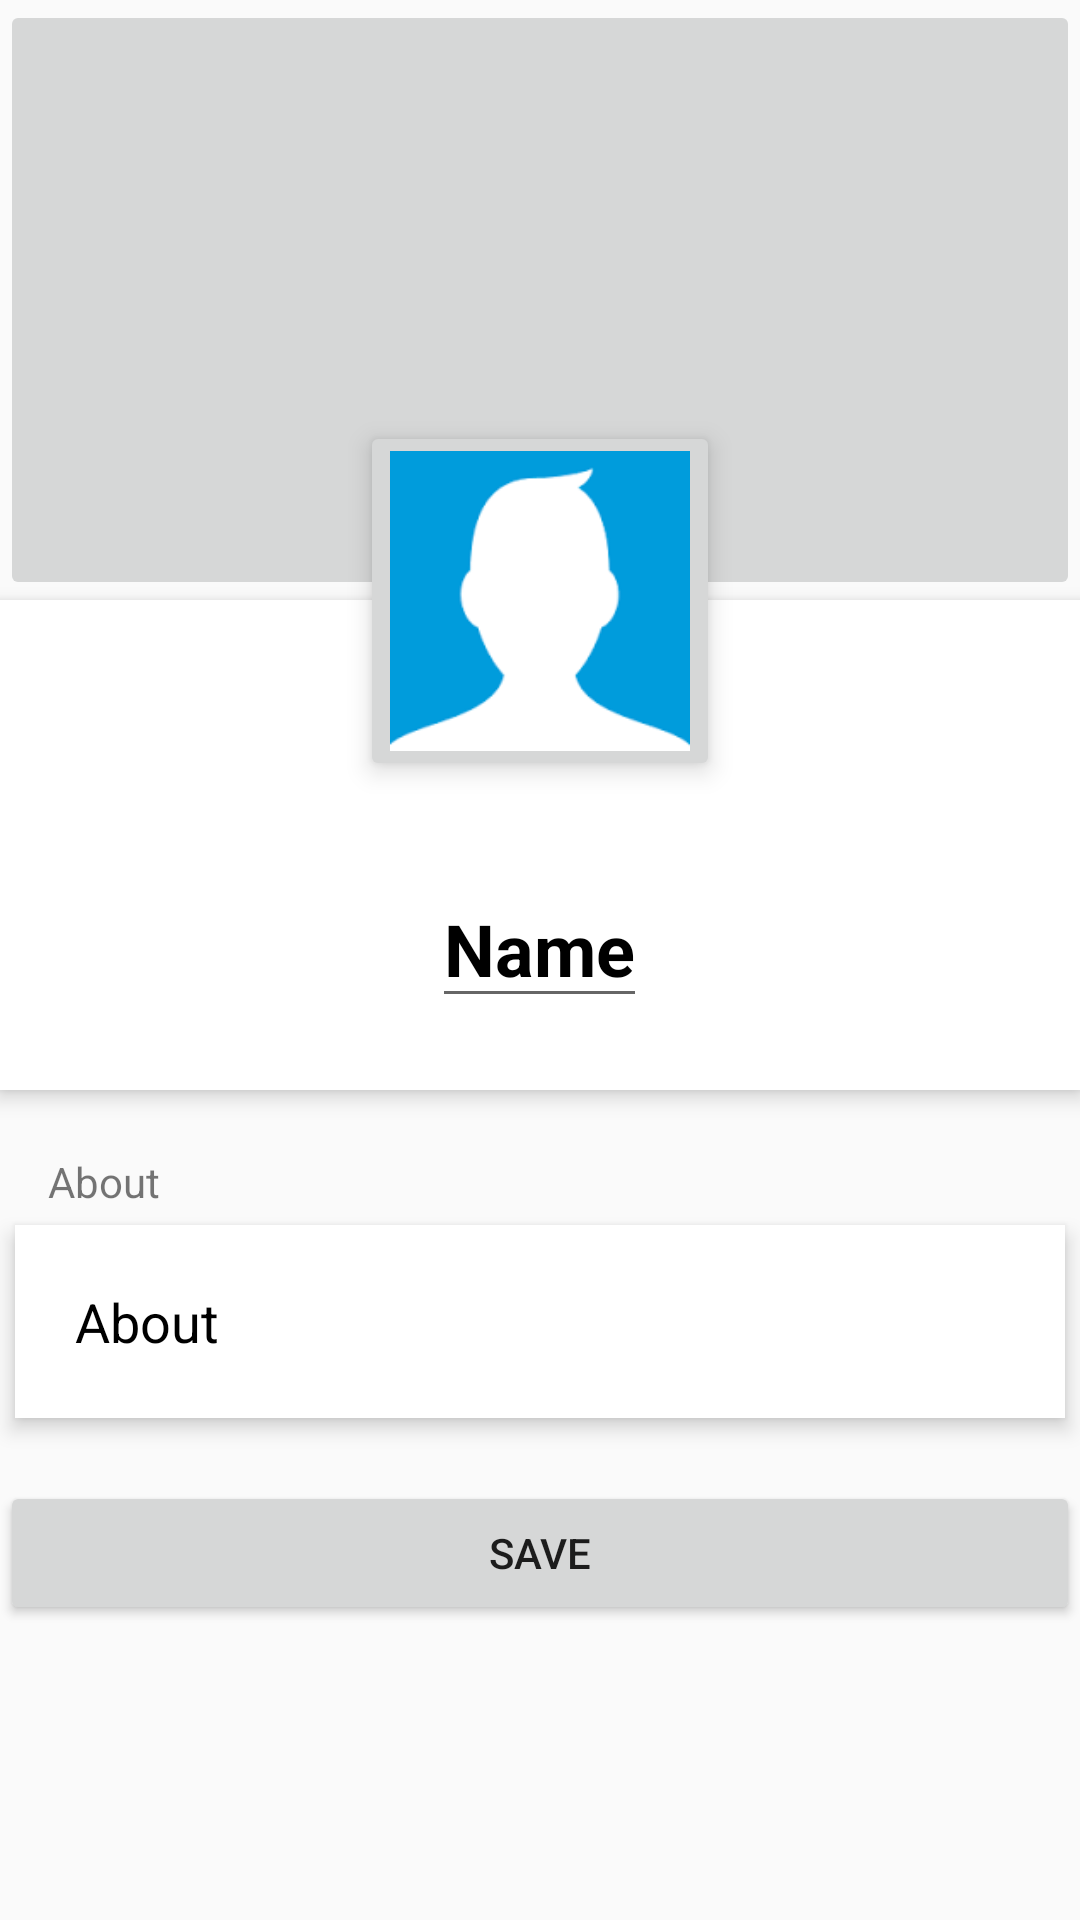

Icon click points for this 1080×1920 phone screenshot, format (x=x, y=y):
profile photo: (x=540, y=601)
